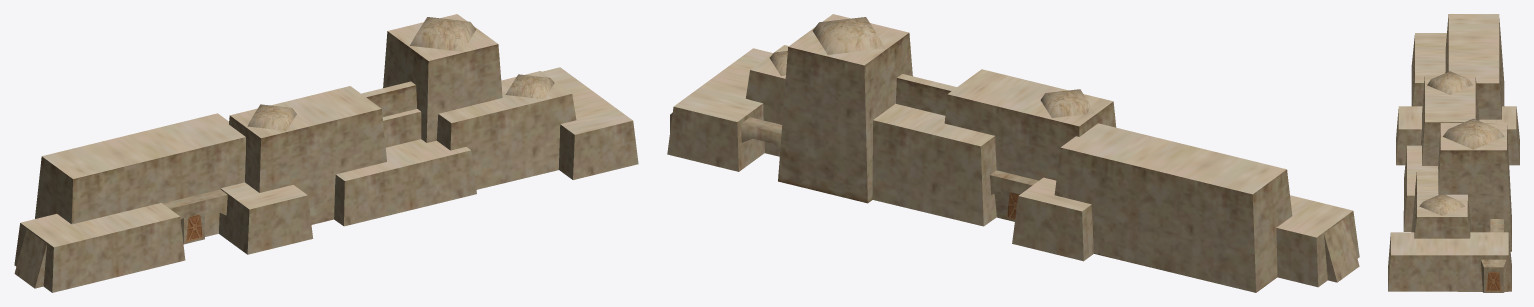
The model's file is thm_tato_block_bldg_64x16_s01_l3.fbx.
3 renders of one model, left to right at view 1: azimuth 30°, elevation 25°; view 2: azimuth 150°, elevation 25°; view 3: azimuth 270°, elevation 25°, orthographic. The views are drawn at different scales.
Visible parts, largest first — view 1: mesh_node; view 2: mesh_node; view 3: mesh_node.
Boxes of the visible parts, x1,y1,x2,y2 form: mesh_node: [14, 14, 638, 292]; mesh_node: [667, 14, 1359, 292]; mesh_node: [1388, 14, 1519, 292].
Bounding box in the file's own units: 69.15 × 15.8 × 16.78.
